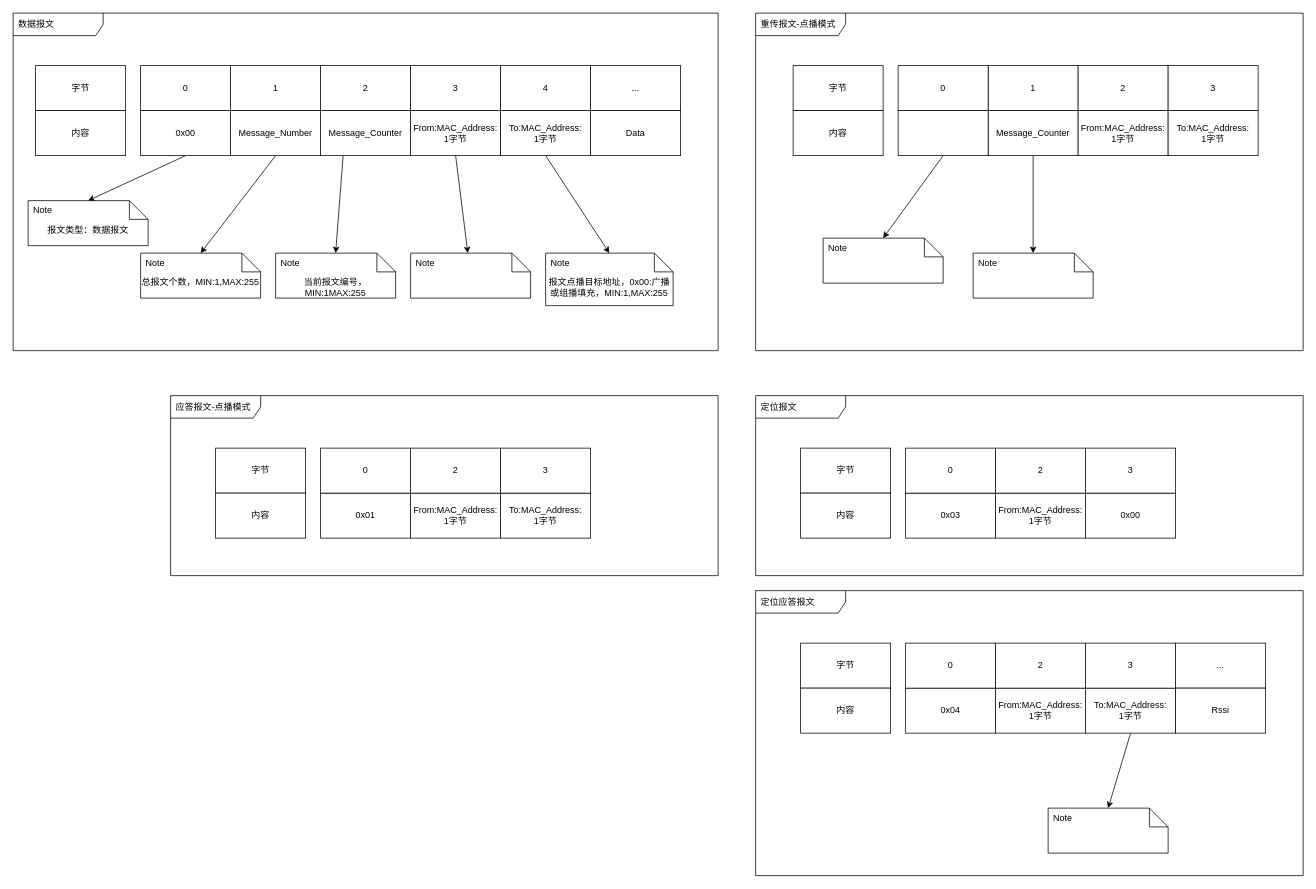
Image size: 1316x889. Some labels were removed from this diagram. The centre of each missing label's shape, as x and y in pixels:
0x02: the point at 942,133
发送定位报文的MAC: the point at 1107,830
报文来源地址,MIN:1,MAX:255: the point at 470,275
报文类型：重传报文: the point at 882,260
需要重传报文的开始编号: the point at 1032,275
